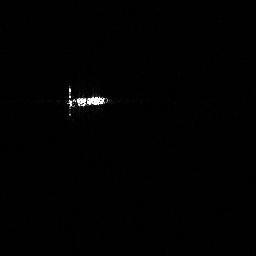ship: (62, 81, 113, 119)
